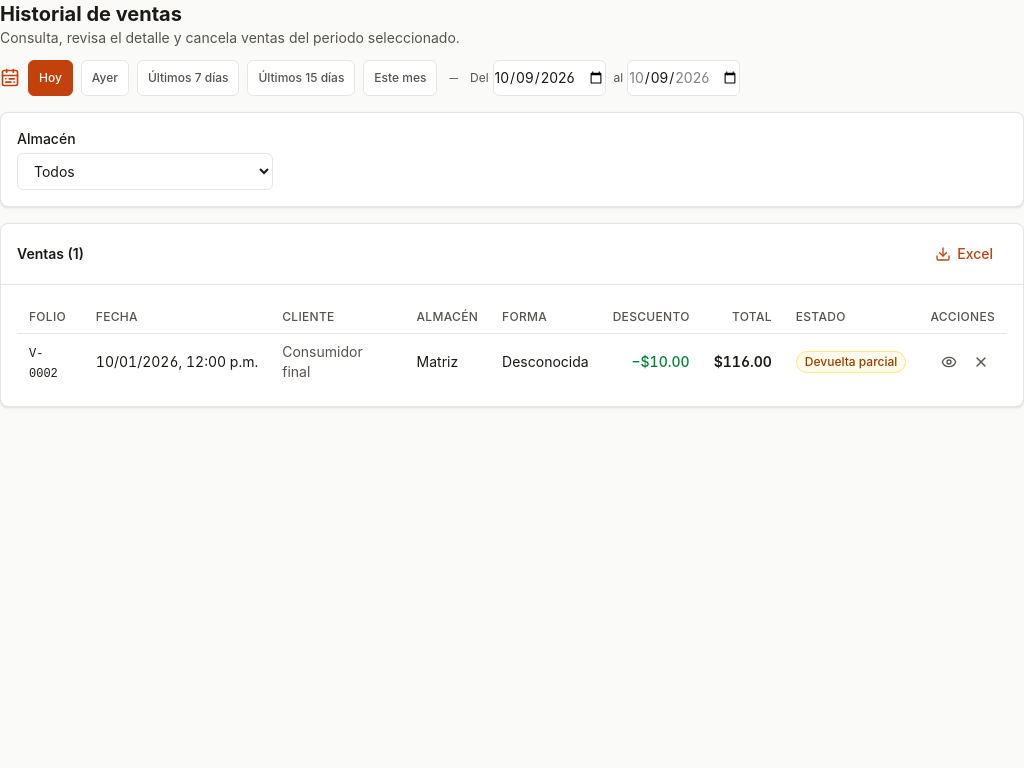
Test: VentasPage (profundización) › muestra promo, descuento, pagos con referencia, notas y consumidor final
Click the button named "Ver detalle de V-0002": [949, 362] box [935,348,963,376]
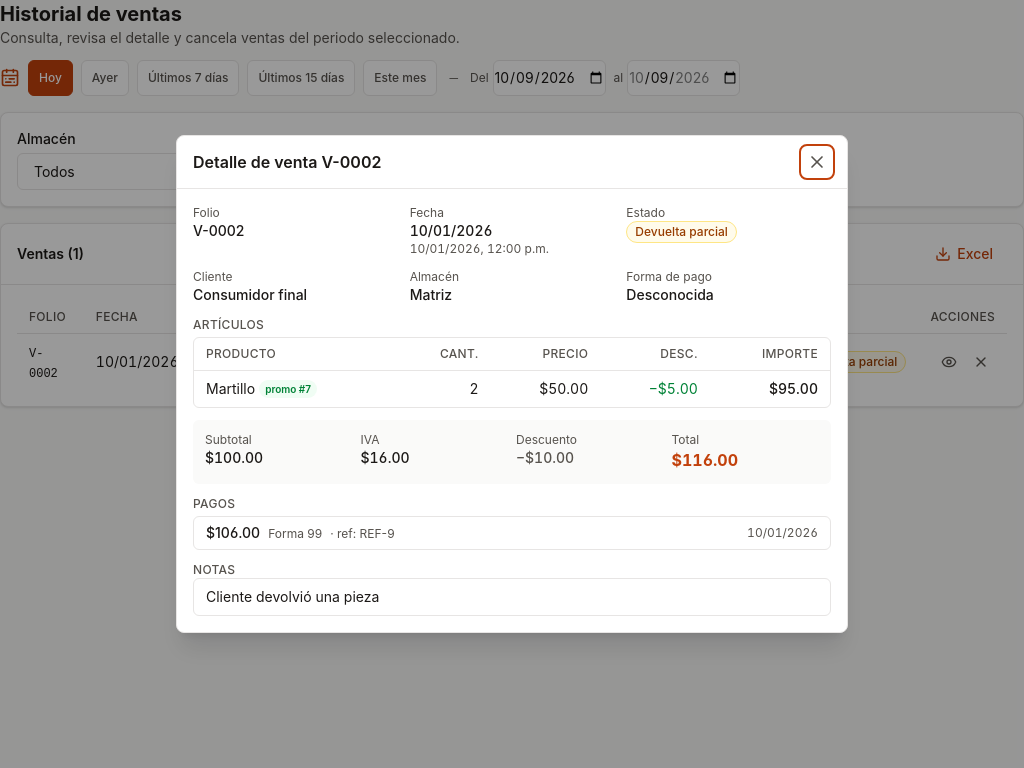
Now the text "promo #7" is shown, box [259,380,317,398]
Now the text "Consumidor final" is shown, box [193,286,307,303]
Now the text "Desconocida" is shown, box [626,286,714,303]
